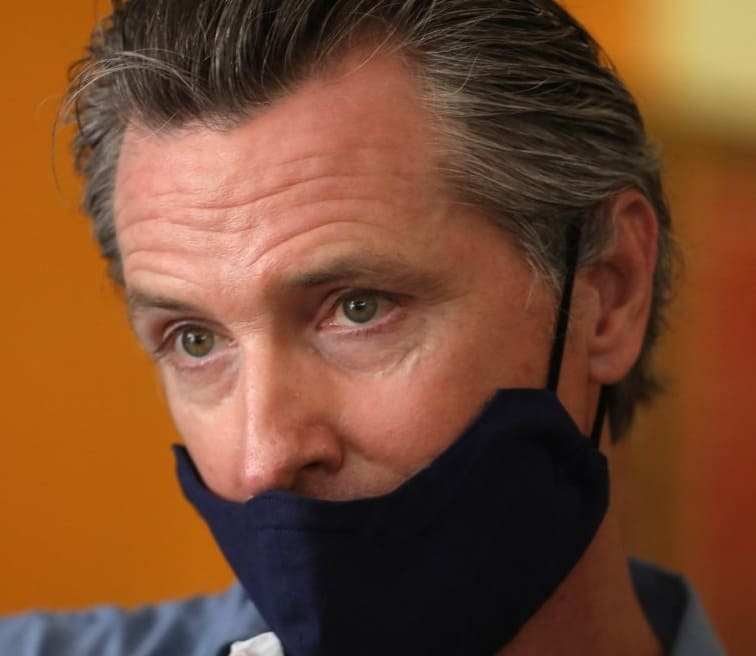with_incorrect_mask: (124, 100, 637, 654)
